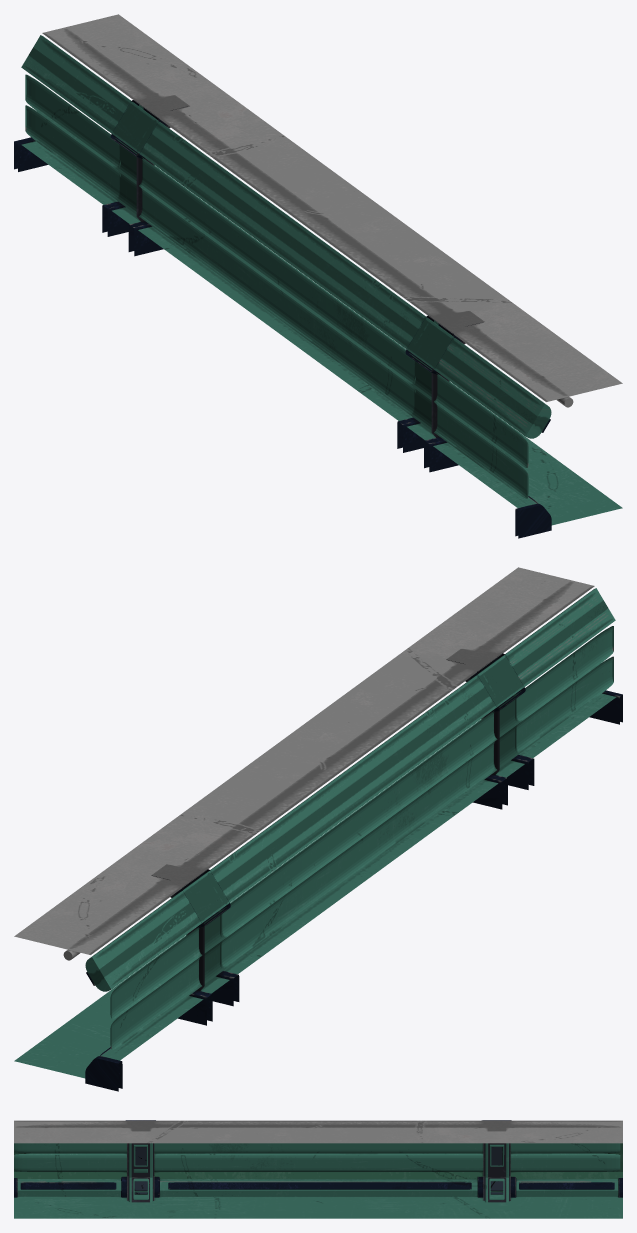
3 renders of one model, top to bottom at view 1: azimuth 30°, elevation 25°; view 2: azimuth 150°, elevation 25°; view 3: azimuth 270°, elevation 25°, orthographic. The views are drawn at different scales.
Parts seen in each view (by area): view 1: polySurface170, polySurface212, polySurface220.001, polySurface222, polySurface167, polySurface192; view 2: polySurface170, polySurface212, polySurface220.001, polySurface222, polySurface167, polySurface192; view 3: polySurface220.001, polySurface170, polySurface167, polySurface212, polySurface222, polySurface169, polySurface199, polySurface225, polySurface224.001, polySurface213, polySurface192.
Boxes of the visible parts, <box> form: polySurface170: <box>42,14,622,401</box>; polySurface212: <box>21,35,551,507</box>; polySurface220.001: <box>25,74,528,498</box>; polySurface222: <box>14,100,551,538</box>; polySurface167: <box>154,165,622,525</box>; polySurface192: <box>136,119,463,437</box>; polySurface170: <box>14,567,594,954</box>; polySurface212: <box>85,588,616,1060</box>; polySurface220.001: <box>110,626,613,1049</box>; polySurface222: <box>85,653,622,1091</box>; polySurface167: <box>14,719,481,1078</box>; polySurface192: <box>172,672,499,991</box>; polySurface220.001: <box>14,1143,620,1171</box>; polySurface170: <box>14,1120,622,1143</box>; polySurface167: <box>14,1196,622,1218</box>; polySurface212: <box>17,1179,618,1196</box>; polySurface222: <box>14,1120,622,1197</box>; polySurface169: <box>14,1143,622,1178</box>; polySurface199: <box>131,1143,506,1202</box>; polySurface225: <box>134,1147,503,1194</box>; polySurface224.001: <box>133,1144,504,1199</box>; polySurface213: <box>129,1143,508,1202</box>; polySurface192: <box>127,1143,510,1200</box>.
Size of the model in its own units: 15.38 by 18.26 by 128.
Materials: 1 (1 with a texture image).
